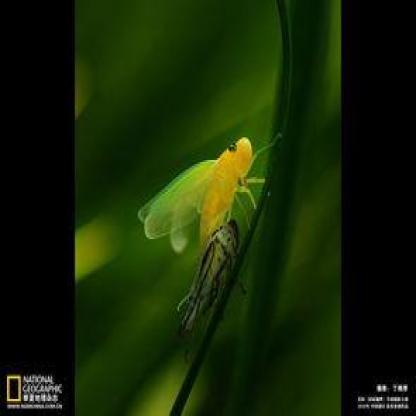Green-Leafhopper: (139, 135, 281, 254), (173, 219, 247, 350)
